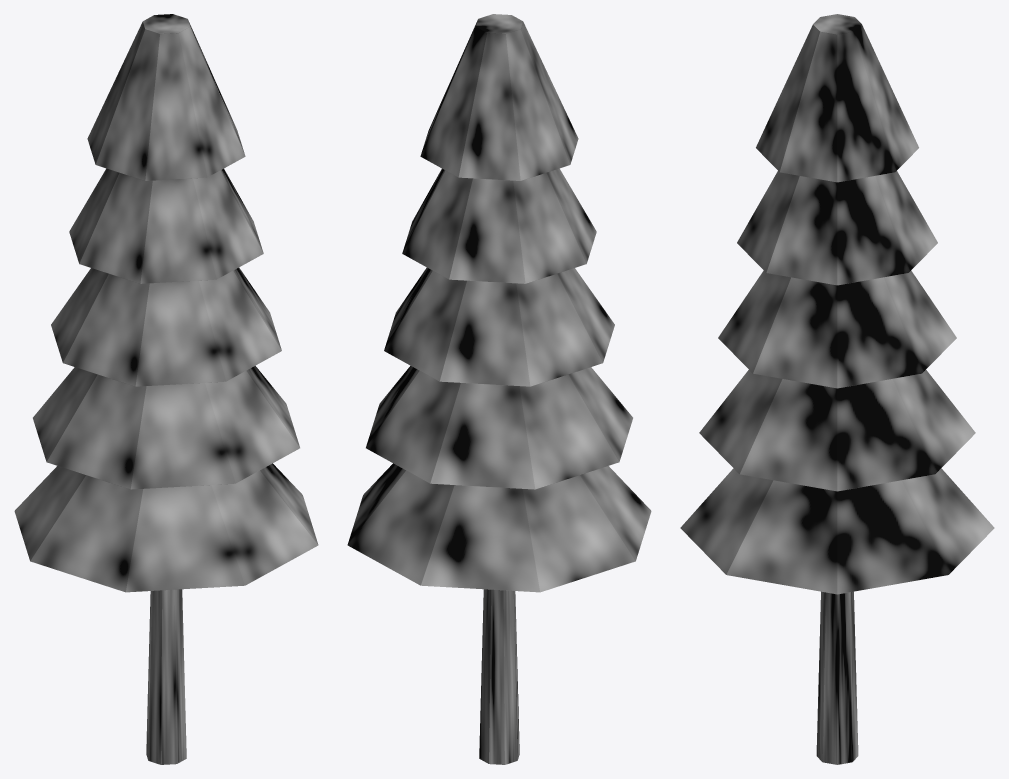
The model's file is tree_pine_xl.glb.
3 views of the same model, side by side, from view 1: azimuth 30°, elevation 25°; view 2: azimuth 150°, elevation 25°; view 3: azimuth 270°, elevation 25° (orthographic).
Visible parts, largest first — view 1: tree_pine_xl; view 2: tree_pine_xl; view 3: tree_pine_xl.
Part boxes in pixels (x1=…): tree_pine_xl: x1=14, y1=14, x2=318, y2=764; tree_pine_xl: x1=347, y1=14, x2=651, y2=764; tree_pine_xl: x1=680, y1=14, x2=994, y2=764.
Size of the model in its own units: 5.4 by 13.86 by 5.4.
Materials: 1 (1 with a texture image).
